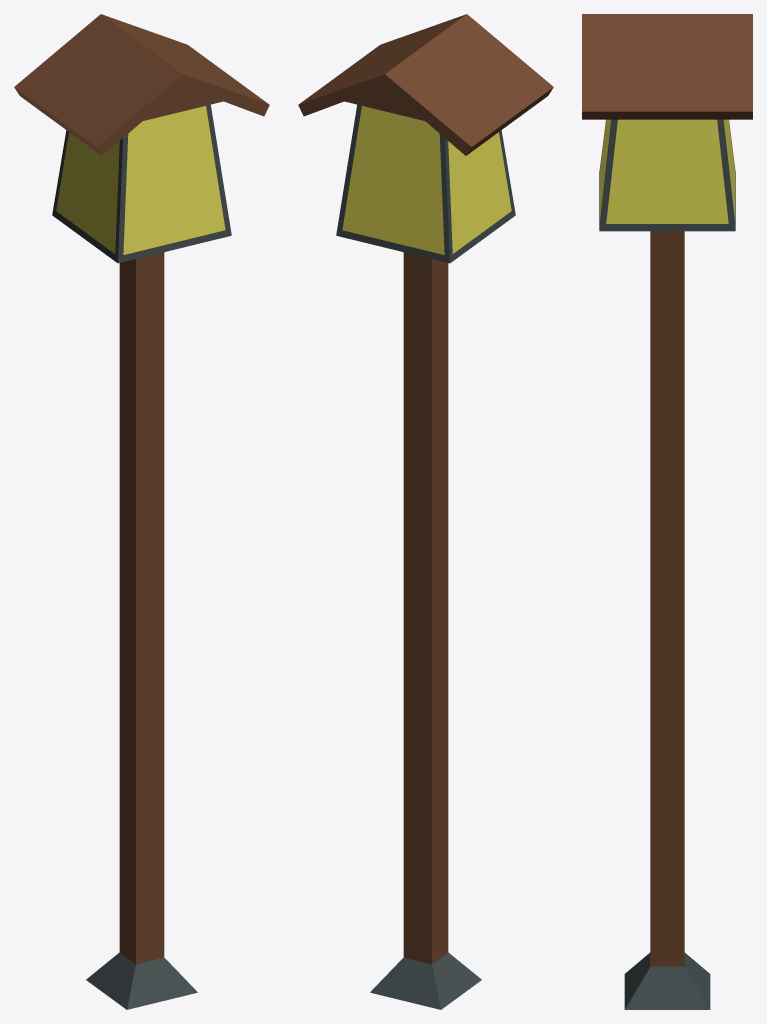
Rendered from Lamp_3_Yellow.fbx.
3 views of the same model, side by side, from view 1: azimuth 30°, elevation 25°; view 2: azimuth 150°, elevation 25°; view 3: azimuth 270°, elevation 25° (orthographic). The views are drawn at different scales.
Visible parts, largest first — view 1: Lamp_3_Yellow; view 2: Lamp_3_Yellow; view 3: Lamp_3_Yellow.
Part boxes in pixels (x1=…): Lamp_3_Yellow: x1=14, y1=14, x2=269, y2=1009; Lamp_3_Yellow: x1=298, y1=14, x2=553, y2=1009; Lamp_3_Yellow: x1=582, y1=14, x2=752, y2=1009.
Size of the model in its own units: 60.93 by 316 by 50.
